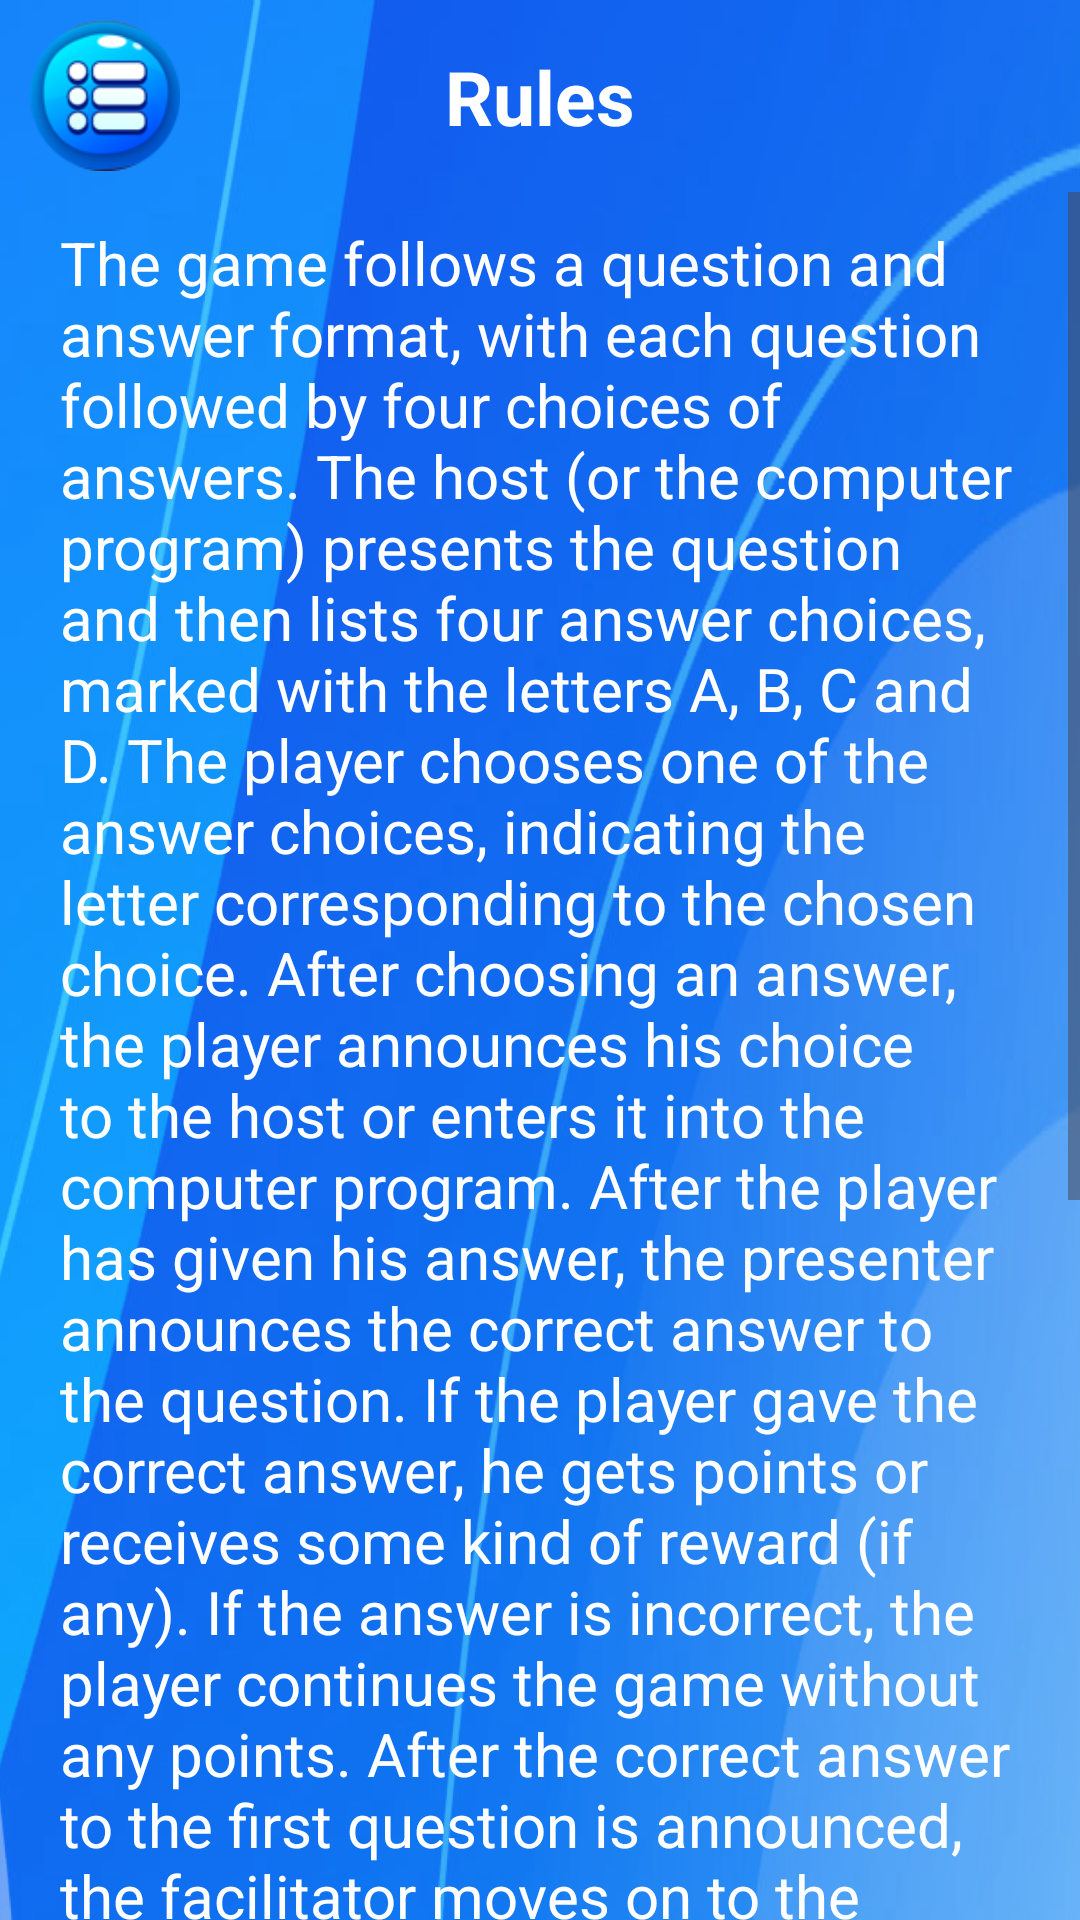

Locate icon controls on the screen. Image size 1080*1920, boxes as (x1, y1, x2, y2).
menu: (32, 21, 180, 171)
